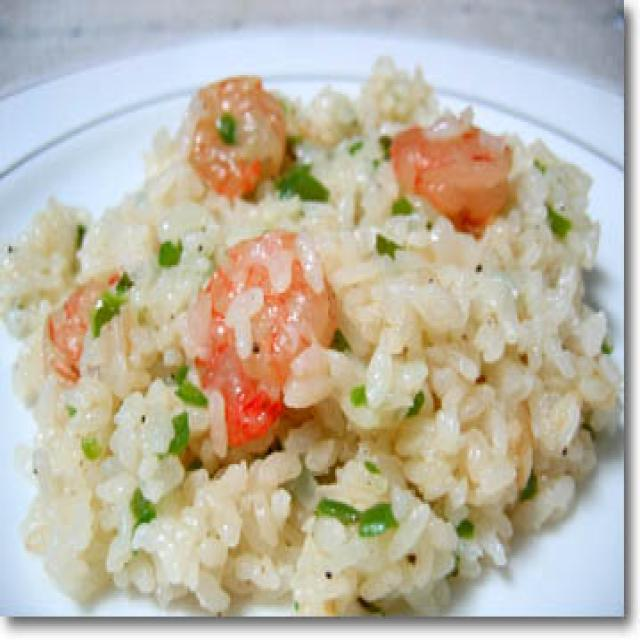米饭主食: (0, 0, 609, 595)
